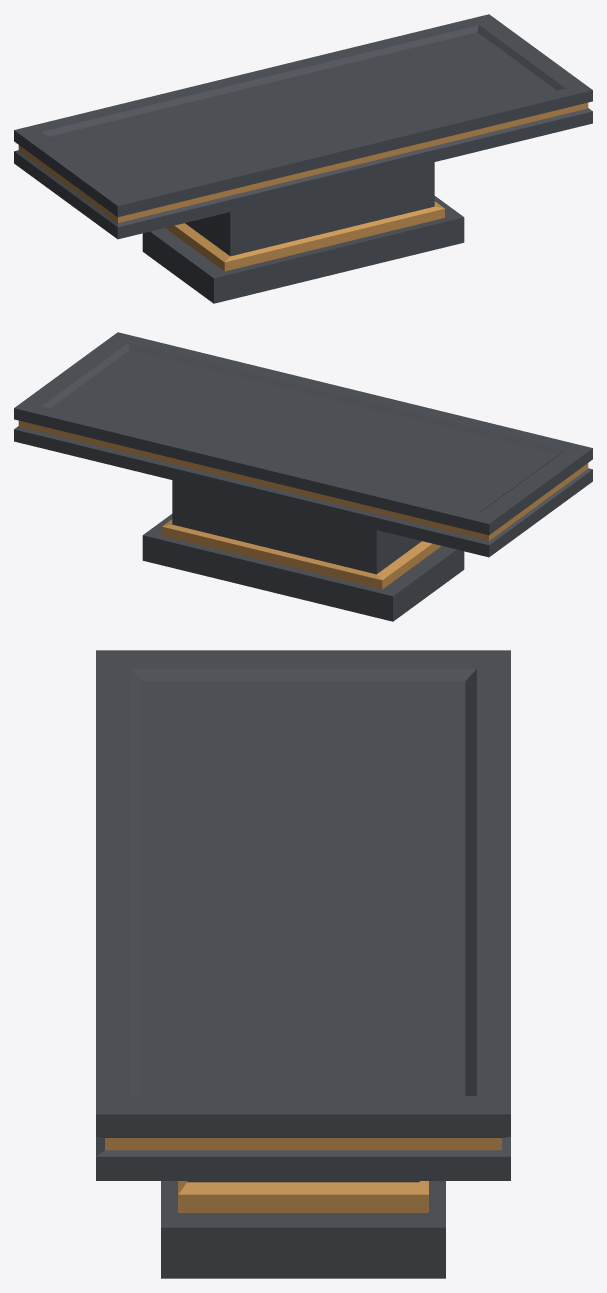
The model's file is Prop_Table_02.glb.
3 views of the same model, one above another, from view 1: azimuth 30°, elevation 25°; view 2: azimuth 150°, elevation 25°; view 3: azimuth 270°, elevation 25° (orthographic). The views are drawn at different scales.
Parts seen in each view (by area): view 1: SM_Prop_Table_02; view 2: SM_Prop_Table_02; view 3: SM_Prop_Table_02.
Part boxes in pixels (x1,y1,x2,y2): SM_Prop_Table_02: [14, 14, 592, 303]; SM_Prop_Table_02: [14, 332, 592, 621]; SM_Prop_Table_02: [96, 650, 510, 1278].
Bounding box in the file's own units: 2.88 × 0.7941 × 1.09.
1 material, 1 textured.
